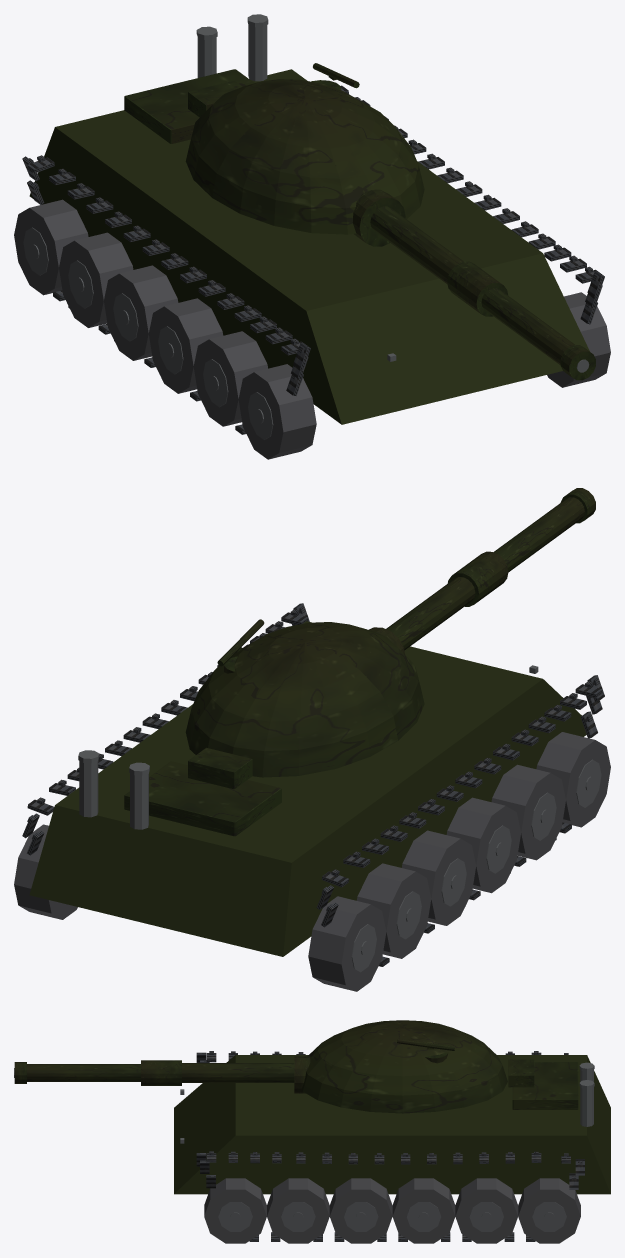
The model's file is vanguard_LOD1.glb.
The picture shows the model from 3 angles, top to bottom: view 1: azimuth 30°, elevation 25°; view 2: azimuth 150°, elevation 25°; view 3: azimuth 270°, elevation 25°; orthographic projection. The views are drawn at different scales.
Parts seen in each view (by area): view 1: HullMesh, TurretMesh, Wheels_L, TrackL, TrackR, Gun_tube1, Gun_tube2, Wheels_R, Gun_ext, exh1, Gun_brk, exh-1; view 2: HullMesh, TurretMesh, Wheels_L, TrackL, TrackR, Gun_tube1, Gun_tube2, Wheels_R, Gun_ext, exh1, exh-1; view 3: HullMesh, Wheels_R, TurretMesh, TrackR, Gun_tube1, Gun_tube2, Gun_ext, exh1, TrackL.
Part boxes in pixels (x1,y1,x2,y2): HullMesh: (29,69,589,424); TurretMesh: (185,63,424,246); Wheels_L: (14,199,316,459); TrackL: (22,155,310,434); TrackR: (340,85,604,324); Gun_tube1: (370,206,463,284); Gun_tube2: (481,288,591,377); Wheels_R: (547,292,610,387); Gun_ext: (447,261,508,316); exh1: (248,25,267,81); Gun_brk: (560,345,595,380); exh-1: (197,37,216,77); HullMesh: (29,621,586,956); TurretMesh: (185,619,424,789); Wheels_L: (308,732,610,991); TrackL: (316,675,604,966); TrackR: (22,603,309,855); Gun_tube1: (386,577,475,650); Gun_tube2: (493,497,584,572); Wheels_R: (14,824,77,919); Gun_ext: (447,551,508,606); exh1: (79,761,98,817); exh-1: (130,773,148,829); HullMesh: (174,1055,610,1194); Wheels_R: (204,1178,580,1243); TurretMesh: (294,1020,534,1113); TrackR: (196,1151,584,1241); Gun_tube1: (182,1063,294,1082); Gun_tube2: (27,1064,140,1081); Gun_ext: (141,1060,181,1085); exh1: (580,1087,593,1126); TrackL: (196,1051,568,1062).
Size of the model in its own units: 3.91 by 2.68 by 8.75.
Materials: 5 (3 with a texture image).
